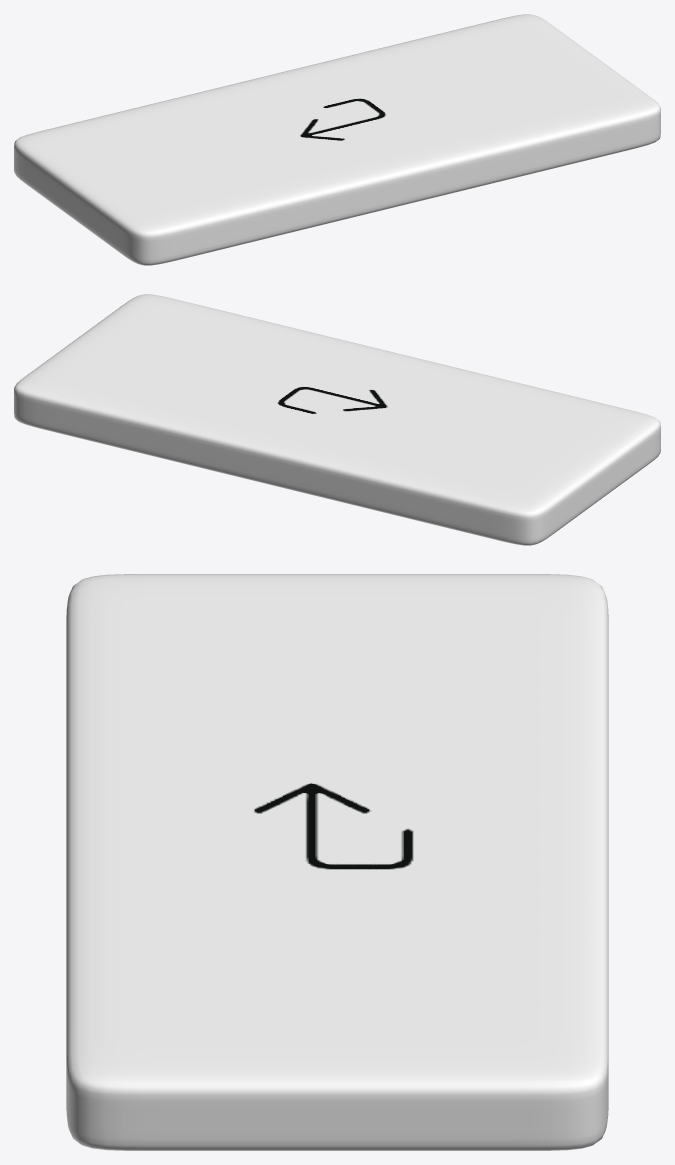
The model's file is 2_enter.fbx.
The picture shows the model from 3 angles, top to bottom: view 1: azimuth 30°, elevation 25°; view 2: azimuth 150°, elevation 25°; view 3: azimuth 270°, elevation 25°; orthographic projection. The views are drawn at different scales.
Parts seen in each view (by area): view 1: 立方体; view 2: 立方体; view 3: 立方体.
Boxes of the visible parts, bbox=[...] form: 立方体: bbox=[14, 14, 660, 265]; 立方体: bbox=[14, 294, 660, 545]; 立方体: bbox=[66, 574, 608, 1150].
Size of the model in its own units: 450 by 30 by 200.
Materials: 1 (1 with a texture image).
